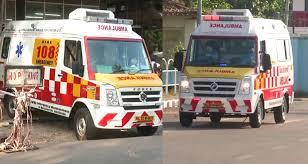ER: (1, 8, 163, 139), (179, 8, 294, 128)
